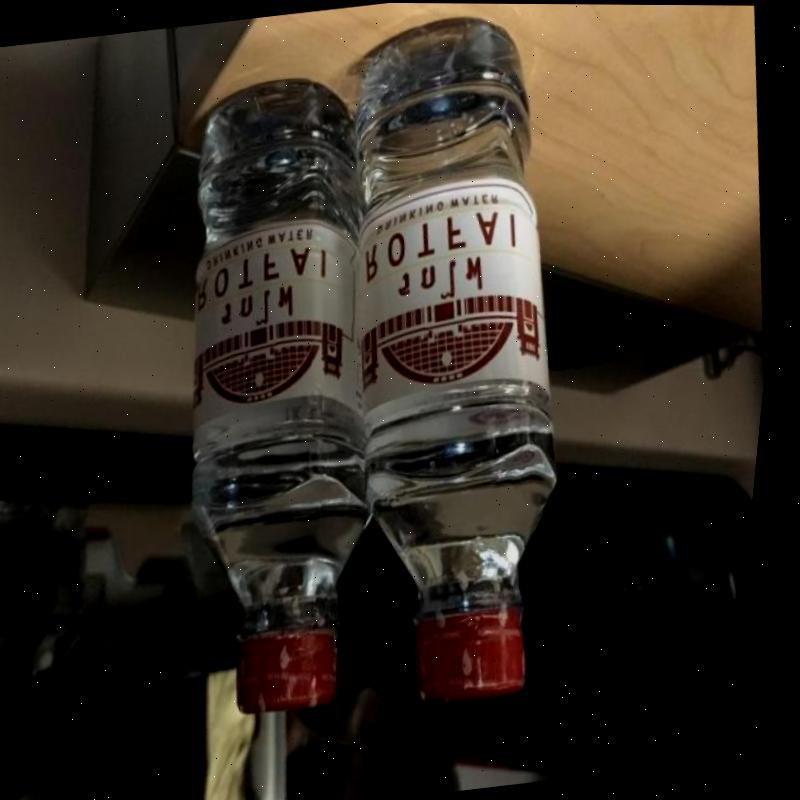botella: (305, 8, 628, 707), (139, 72, 438, 720)
